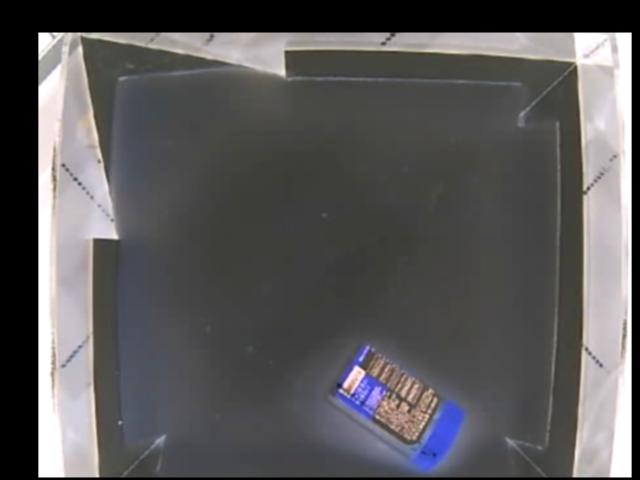Bottle: (324, 337, 464, 477)
